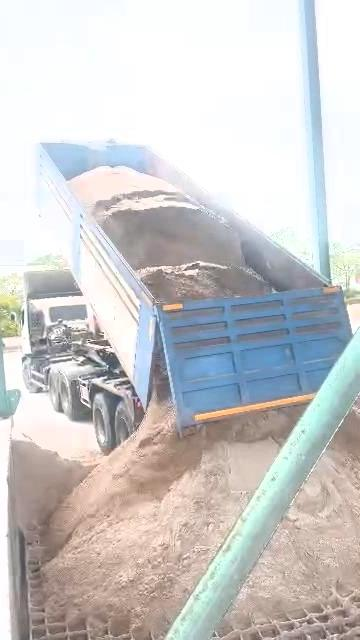sand: (45, 400, 301, 639), (70, 167, 271, 301), (226, 423, 360, 624), (12, 437, 102, 530)
